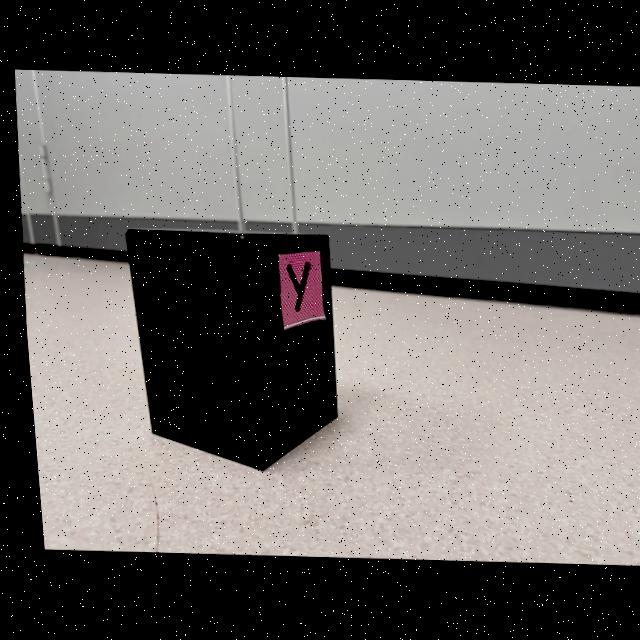Y: (281, 263, 305, 313)
